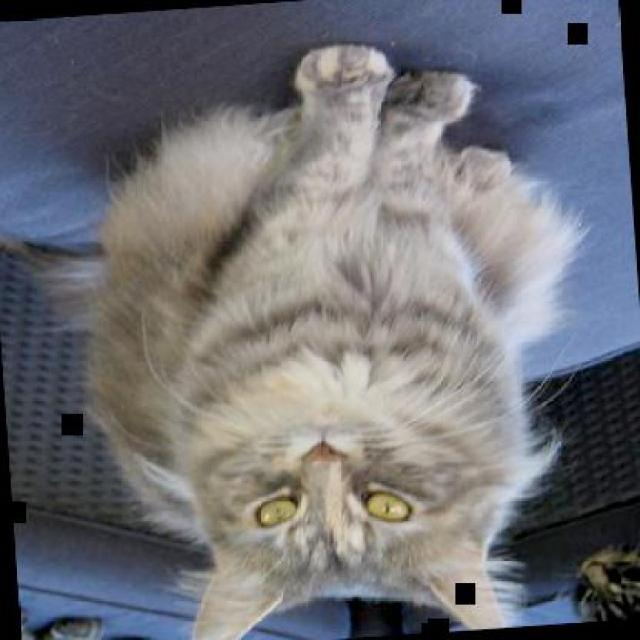cat: (20, 26, 602, 639)
